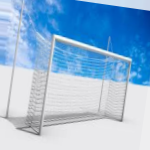goals: (21, 29, 134, 136)
